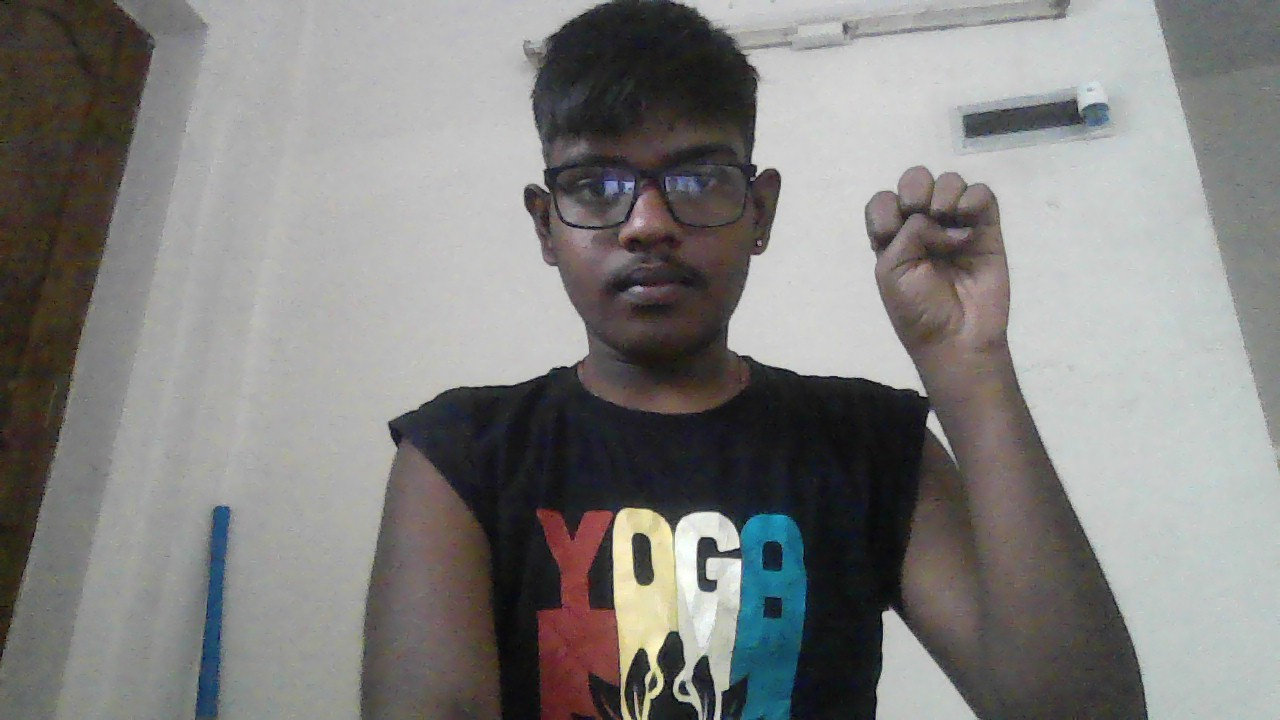E: (864, 165, 1016, 364)
